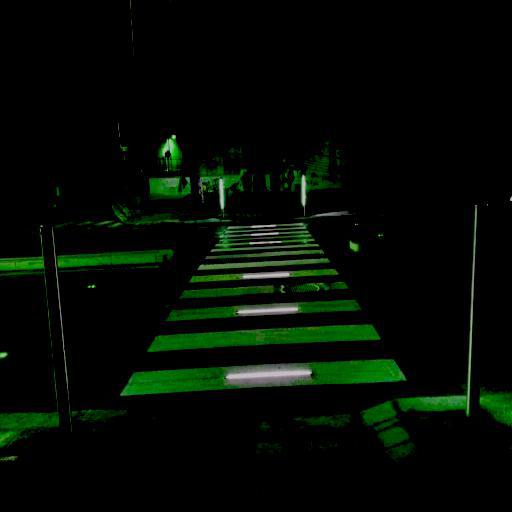crosswalk: (142, 295, 388, 357), (194, 243, 332, 275)
